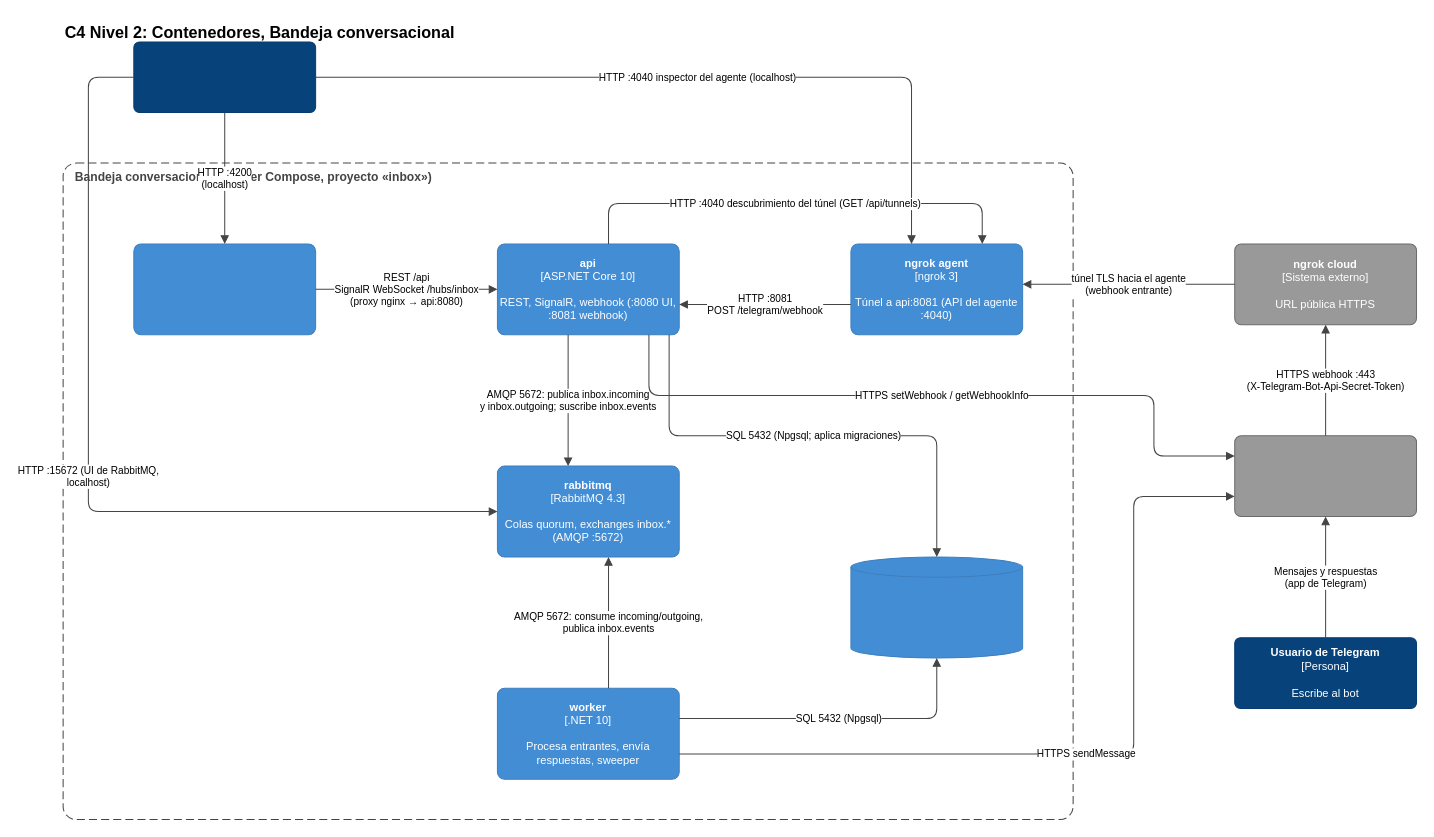
Image size: 1434x837. Some labels were removed from this diagram. Here are the shapes that lost their labels. From the top down, the box of each, then its label:
(133, 41, 316, 113): Operador [Persona] Usa la bandeja web
(133, 243, 316, 335): frontend [nginx 1.30 + Angular 22] Sirve la SPA y hace proxy a la api (:80)
(1234, 435, 1417, 517): Telegram Bot API [Sistema externo] api.telegram.org
(850, 556, 1023, 658): postgres [PostgreSQL 18] Contactos y mensajes (:5432)
